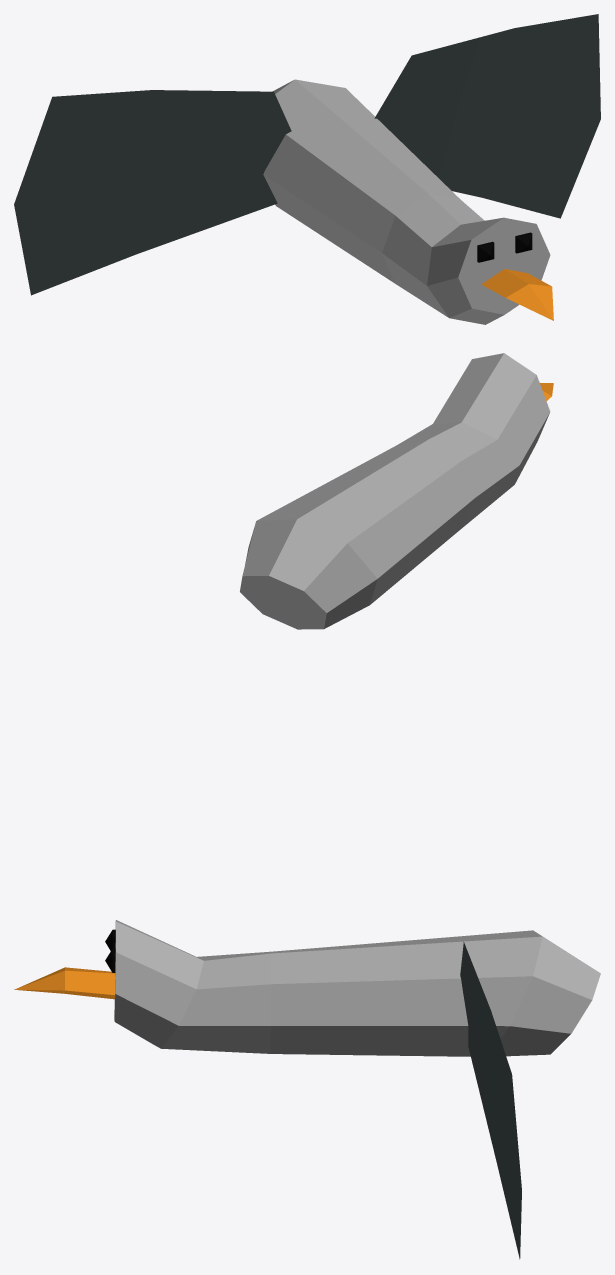
The model's file is seagull.glb.
3 views of the same model, one above another, from view 1: azimuth 30°, elevation 25°; view 2: azimuth 150°, elevation 25°; view 3: azimuth 270°, elevation 25° (orthographic). The views are drawn at different scales.
Parts seen in each view (by area): view 1: Plane.001, Seagull, Plane; view 2: Seagull; view 3: Seagull, Plane.
Boxes of the visible parts, x1=… form: Plane.001: x1=14, y1=90, x2=291, y2=295; Seagull: x1=263, y1=79, x2=553, y2=324; Plane: x1=374, y1=14, x2=600, y2=218; Seagull: x1=240, y1=353, x2=553, y2=629; Seagull: x1=14, y1=920, x2=600, y2=1056; Plane: x1=460, y1=942, x2=521, y2=1259.
Bounding box in the file's own units: 12.33 × 5.06 × 10.42.
